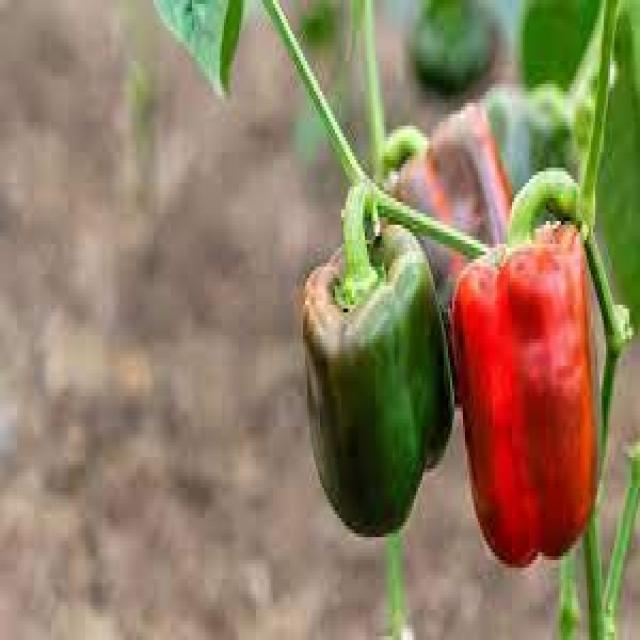bell_pepper: (300, 218, 458, 544)
